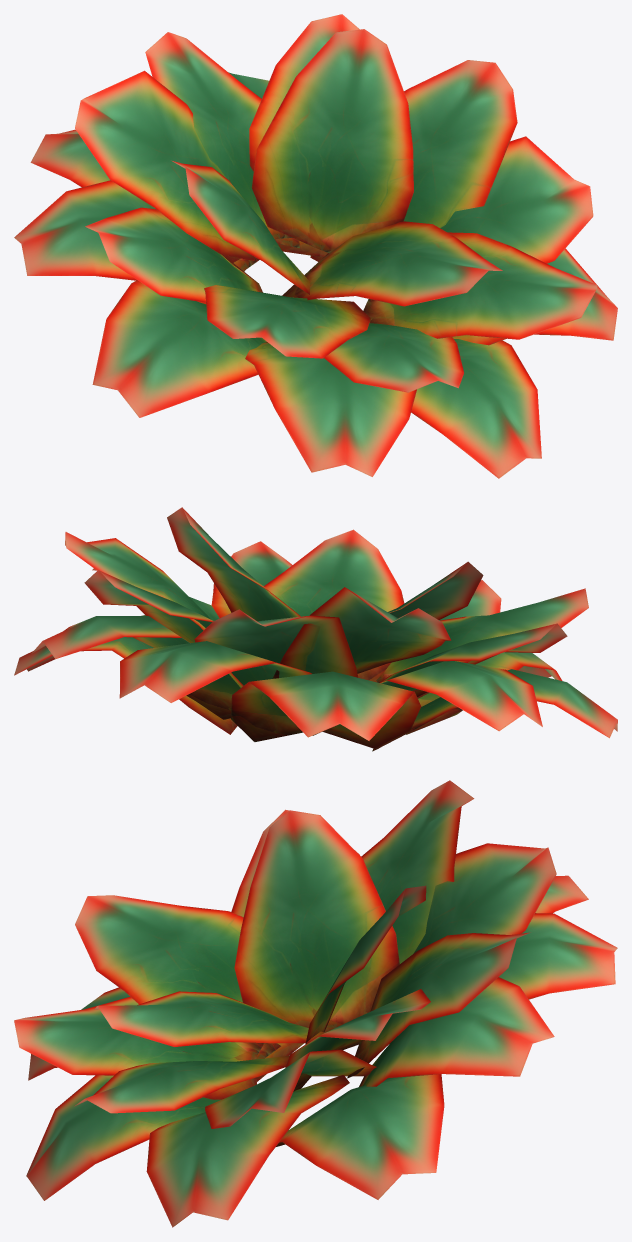
The model's file is _1207171704_texture.fbx.
3 views of the same model, one above another, from view 1: azimuth 30°, elevation 25°; view 2: azimuth 150°, elevation 25°; view 3: azimuth 270°, elevation 25° (orthographic). The views are drawn at different scales.
Parts seen in each view (by area): view 1: Mesh_0; view 2: Mesh_0; view 3: Mesh_0.
Part boxes in pixels (<box>): Mesh_0: <box>14,14,617,478</box>; Mesh_0: <box>14,507,617,751</box>; Mesh_0: <box>14,780,617,1227</box>.
Size of the model in its own units: 27.14 by 15 by 26.25.
Materials: 1 (1 with a texture image).
